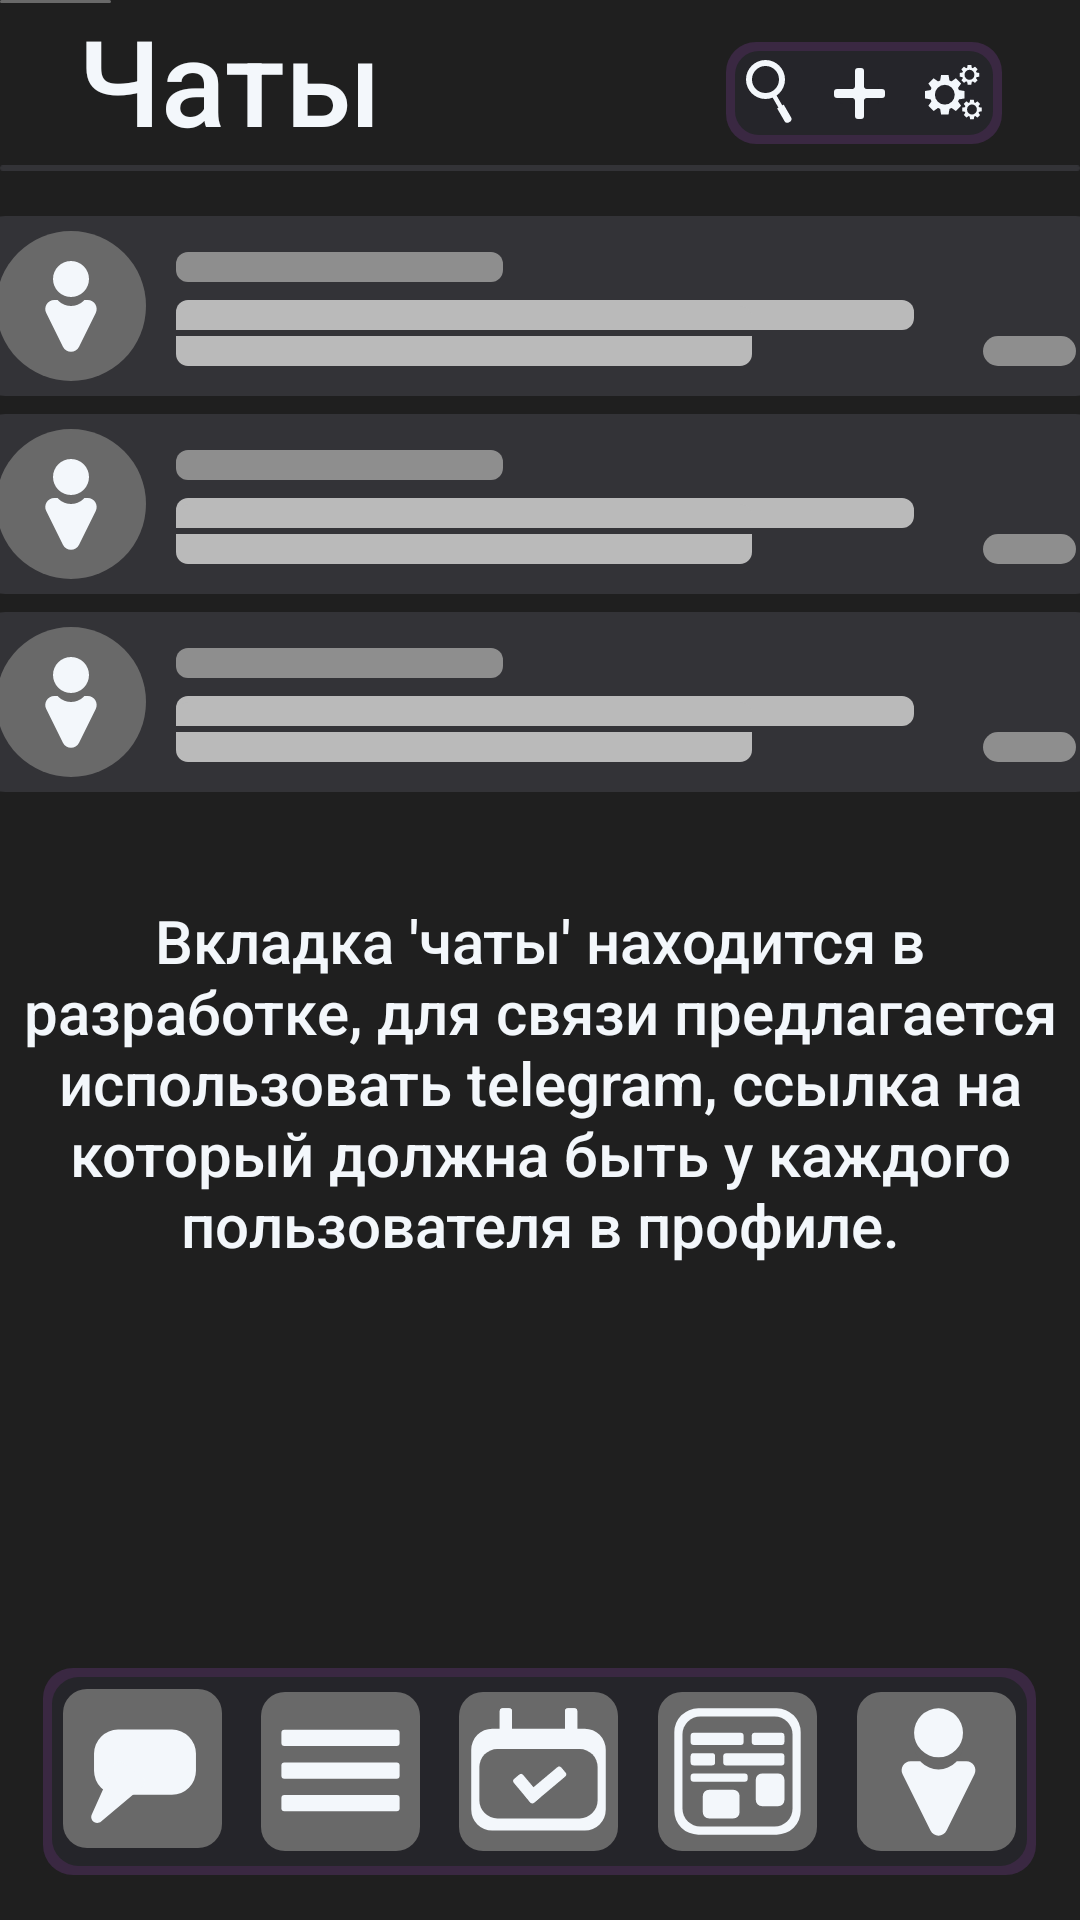

Named icons in this screenshot (1080 x 1920) and their centers, point (x, y):
bottompanel accountbutton: point (936, 1771)
bottompanel eventsbutton: point (538, 1771)
bottompanel messengerbutton: point (142, 1768)
bottompanel newsbutton: point (737, 1771)
tooslpanel magnifier: point (770, 93)
tooslpanel plus: point (859, 93)
tooslpanelsettings: point (953, 93)
